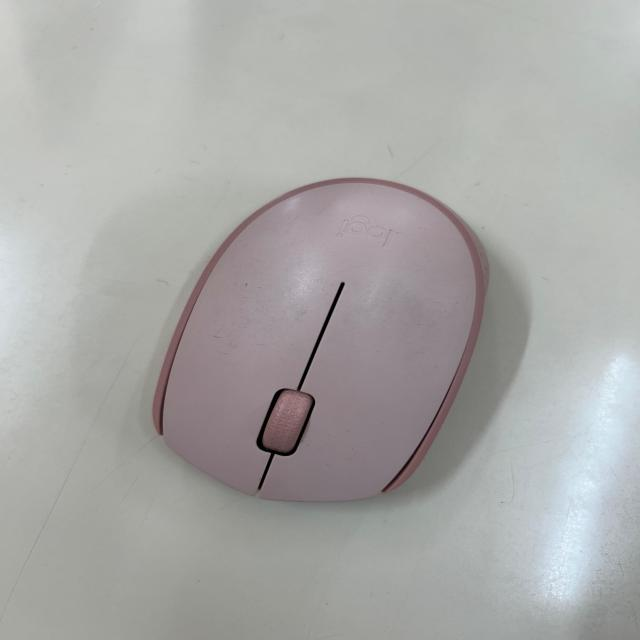inorganic: (153, 176, 487, 501)
